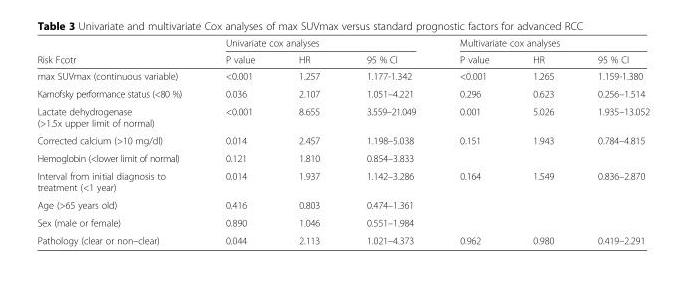table: (36, 36, 649, 245)
table column: (36, 36, 203, 245), (342, 36, 437, 245), (575, 36, 649, 245), (203, 36, 276, 245), (437, 36, 510, 245), (276, 36, 342, 245), (510, 36, 575, 245)
table column header: (36, 36, 649, 67)
table row: (36, 102, 649, 131), (36, 166, 649, 195), (36, 84, 649, 102), (36, 131, 649, 149), (36, 195, 649, 213), (36, 213, 649, 231), (36, 50, 649, 67), (36, 67, 649, 84), (36, 149, 649, 166), (36, 36, 649, 50), (36, 231, 649, 245)
table spanning cell: (36, 36, 203, 67), (203, 36, 437, 50), (437, 36, 649, 50)
